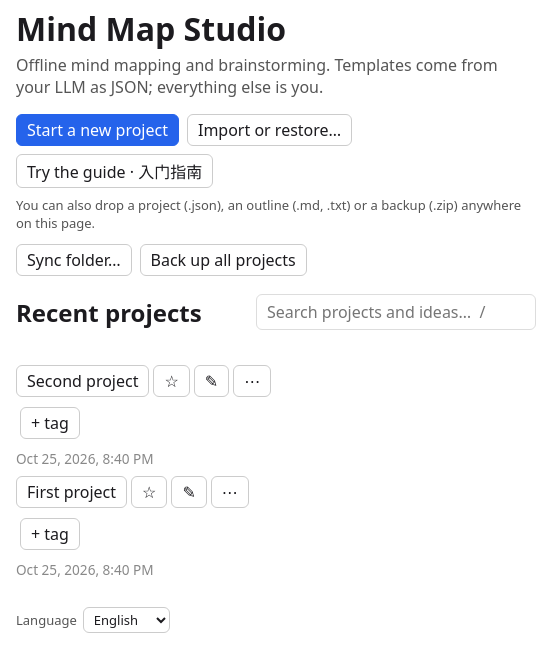
Test: StartScreen — per-row rename › Escape cancels the rename and keeps the row
The image size is (553, 655).
Click the button named "Rename Second project": (212, 381) [194, 365, 229, 397]
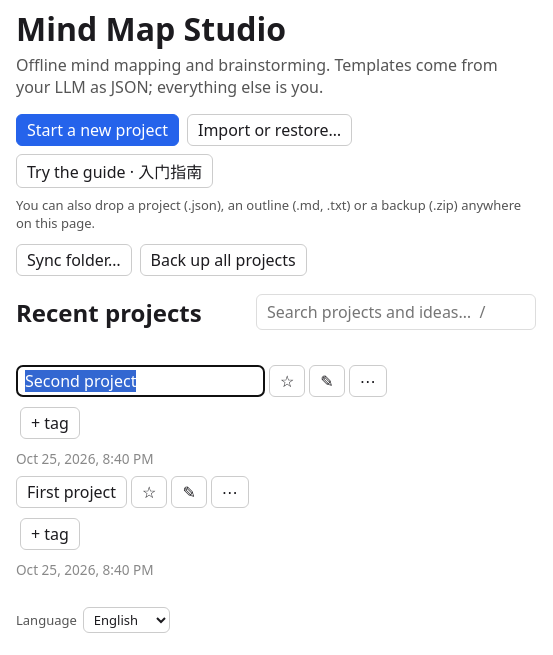
Now the field is shown
Replace the text in the field with "Never saved": (140, 381) [16, 365, 265, 397]
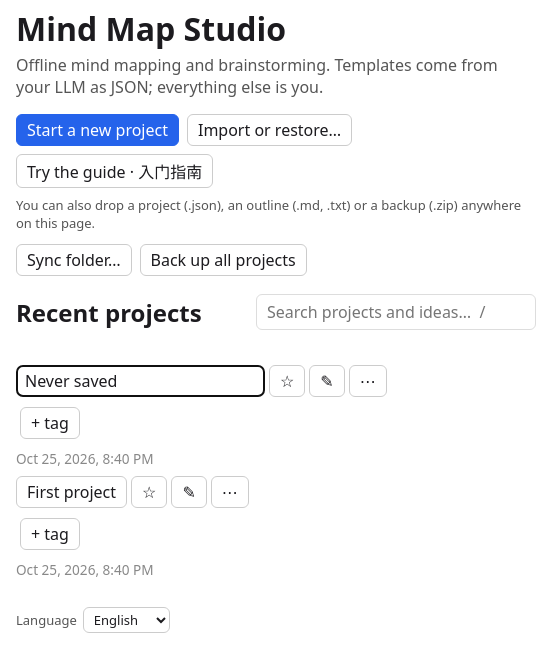
Press Escape in the field, box [16, 365, 265, 397]
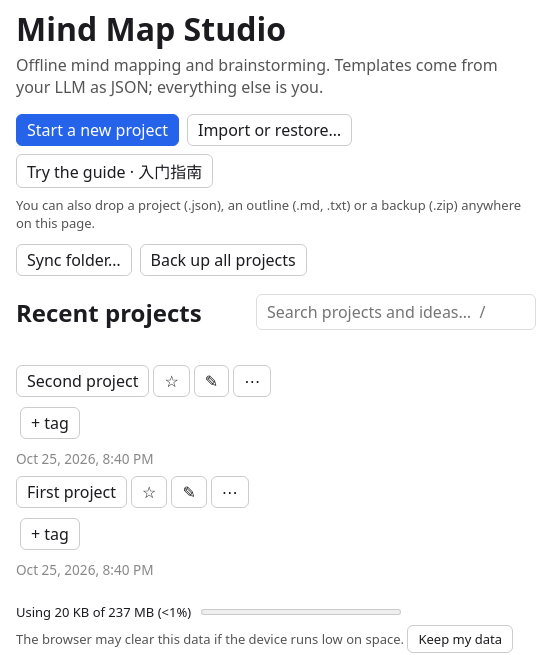
Now the field is gone
Now the button "Second project" is shown, box [16, 365, 150, 397]
